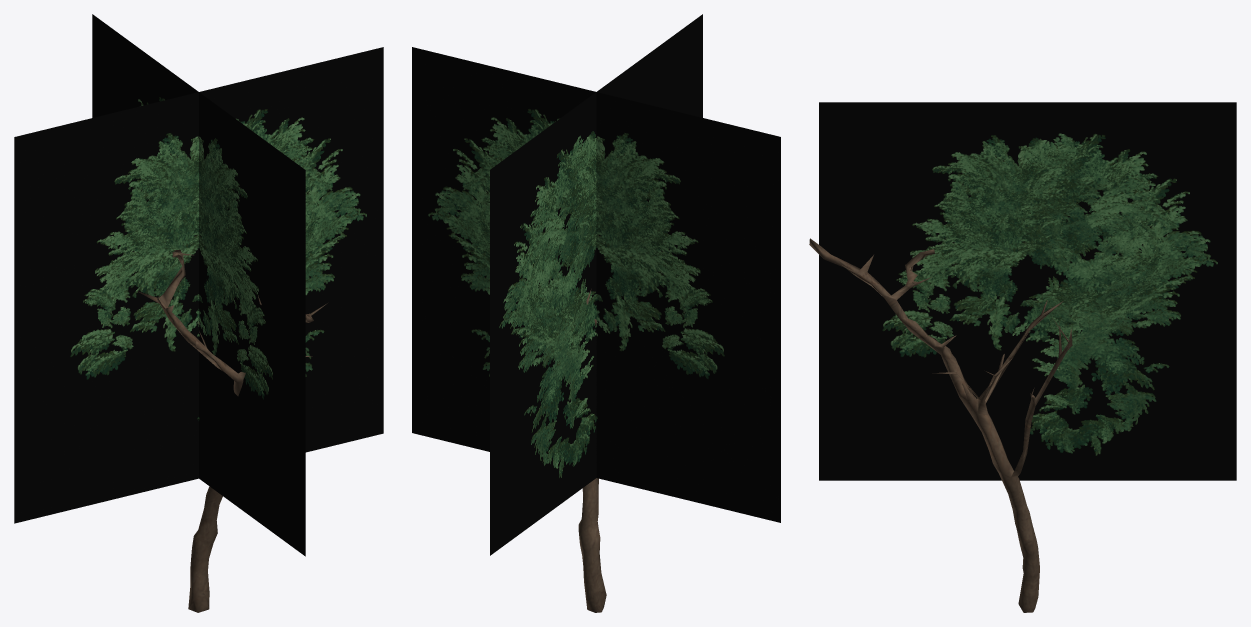
The model's file is field_broadleaf_a_lod2.glb.
The picture shows the model from 3 angles, left to right: view 1: azimuth 30°, elevation 25°; view 2: azimuth 150°, elevation 25°; view 3: azimuth 270°, elevation 25°; orthographic projection. The views are drawn at different scales.
Parts seen in each view (by area): view 1: foliage_lod2, bark_lod2; view 2: foliage_lod2, bark_lod2; view 3: foliage_lod2, bark_lod2.
Part boxes in pixels (x1,y1,x2,y2): foliage_lod2: [14, 14, 383, 556]; bark_lod2: [137, 249, 327, 612]; foliage_lod2: [412, 14, 780, 555]; bark_lod2: [578, 289, 606, 612]; foliage_lod2: [819, 102, 1236, 480]; bark_lod2: [809, 238, 1072, 612].
Size of the model in its own units: 3.6 by 4.83 by 3.68.
2 materials, 2 textured.
